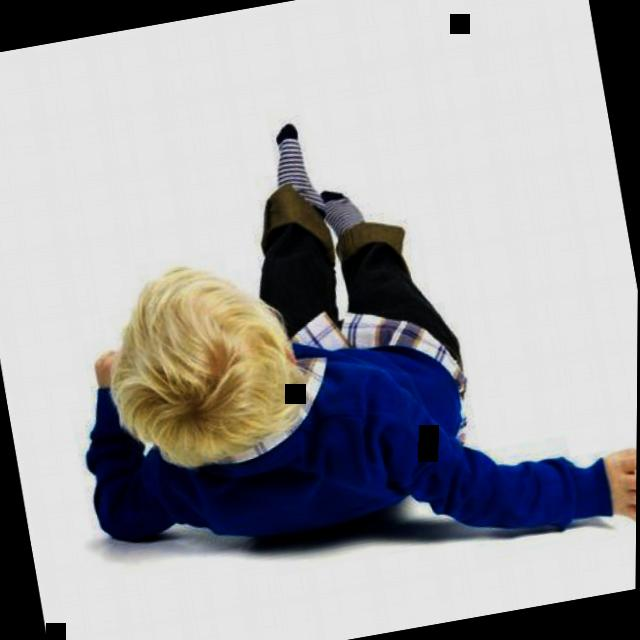Fall-Detected: (0, 9, 640, 640)
